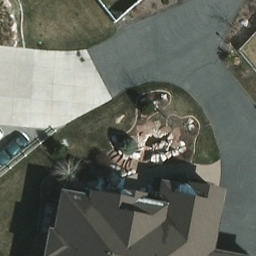car: (1, 133, 30, 168)
